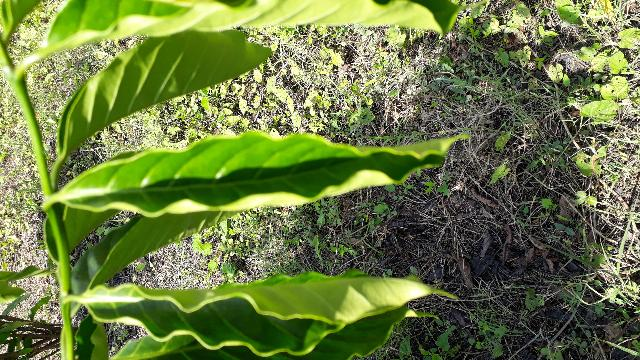healthy: (43, 132, 468, 216)
